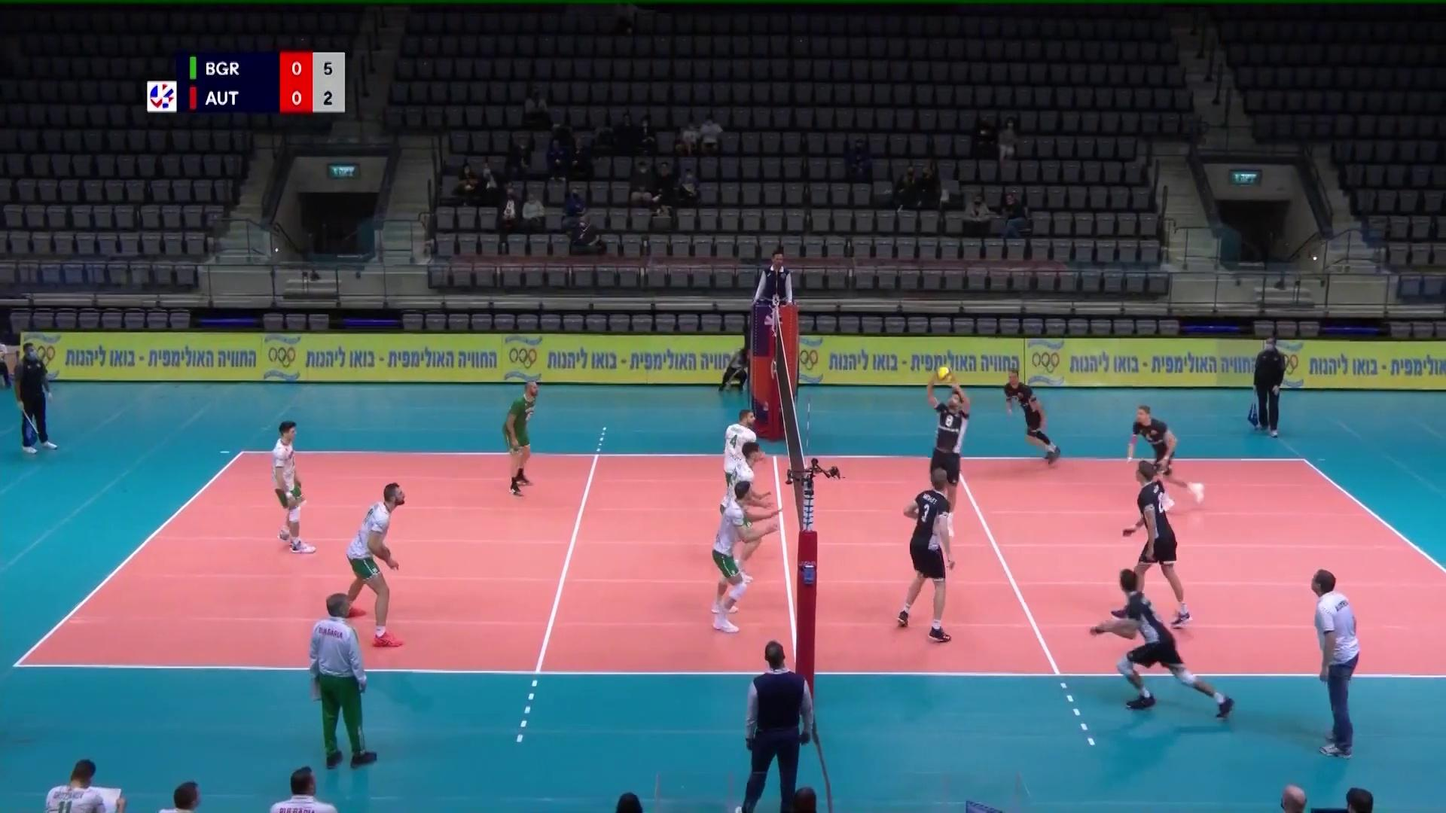ball: (935, 366, 952, 385)
